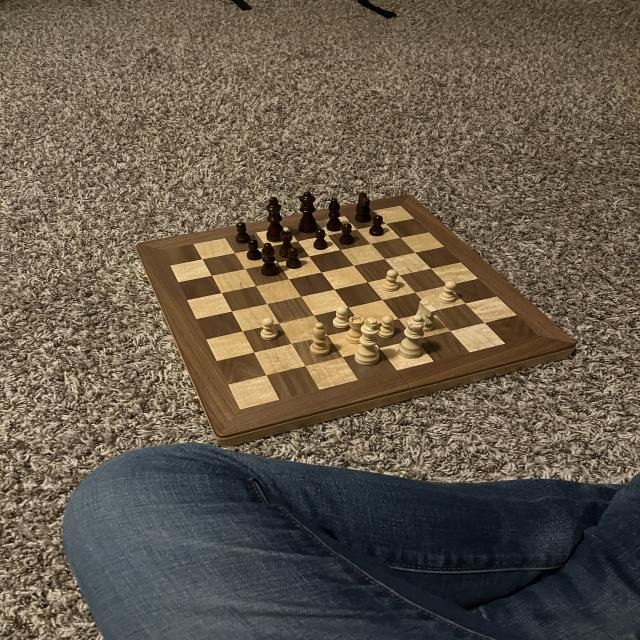bishop: (260, 242, 280, 278), (325, 196, 345, 232)
black-bishop: (263, 195, 287, 244)
black-king: (354, 191, 372, 224)
black-knight: (285, 246, 305, 271), (311, 228, 330, 251), (234, 221, 252, 245), (245, 239, 263, 262), (368, 215, 386, 238), (338, 223, 356, 245)
black-pawn: (296, 190, 318, 236)
black-queen: (278, 229, 294, 259)
black-rook: (309, 321, 332, 357)
white-bishop: (352, 316, 381, 368)
white-king: (412, 299, 438, 332)
white-knight: (258, 317, 280, 342), (331, 306, 353, 330), (381, 268, 401, 293), (378, 312, 397, 338), (438, 280, 458, 304)
white-pawn: (397, 314, 427, 359)
white-queen: (344, 315, 368, 345)
